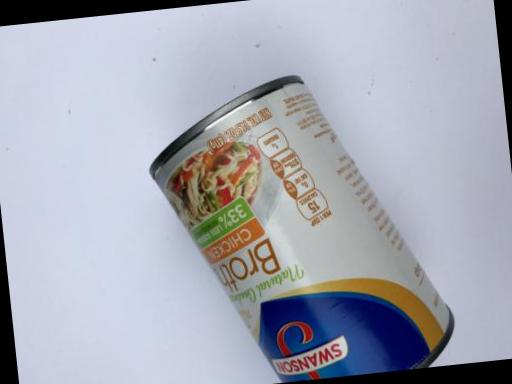metal: (127, 44, 480, 384)
